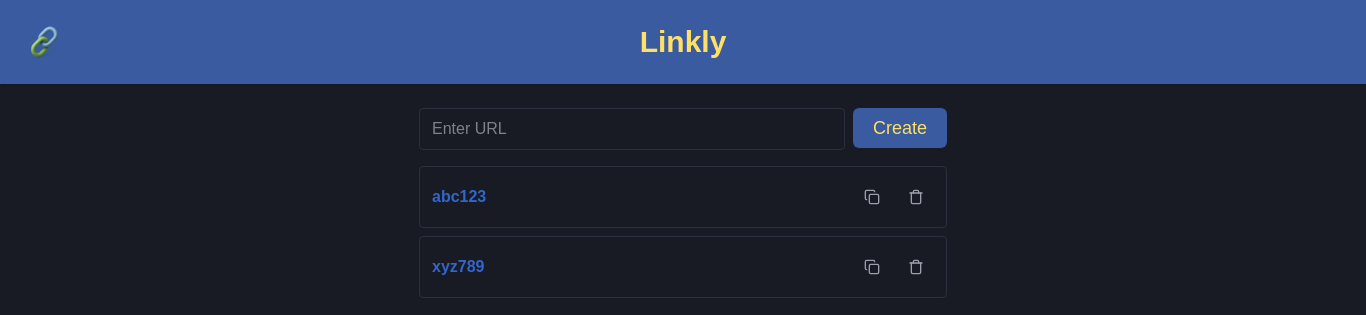
URL Shortener (Mockade API-anrop) › should delete a link
The width and height of the screenshot is (1366, 315).
Click the 3rd button. click: click(916, 197)
box: x1=898 y1=179 x2=934 y2=215
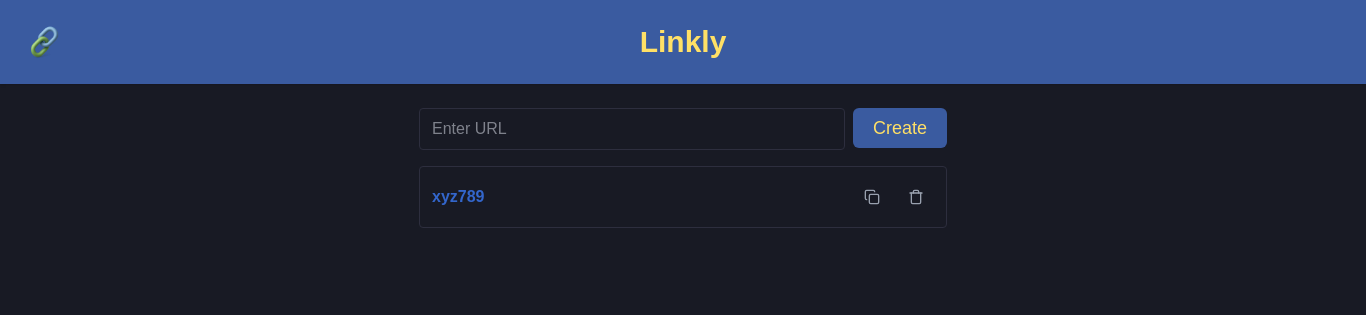
Result: the number of list items is 1 at x1=419 y1=166 x2=947 y2=228
